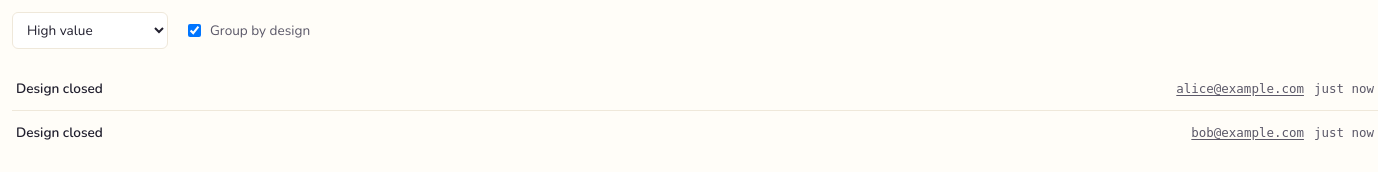
it: ActivityView › clicking a developer name filters the feed to that developer, and it's clearable
expect the text "Design closed" is shown 2 times: met, box [16, 79, 103, 98]; [16, 123, 103, 142]
What coordinates should you click on to do the following:
click the button "bob@example.com"
I would click on:
 (1248, 132)
Its box is [1191, 125, 1304, 140].
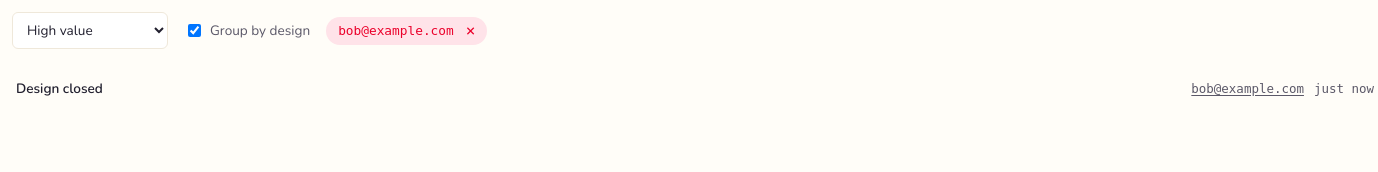
expect the text "Design closed" is shown once: met, box [16, 79, 103, 98]
expect the text "bob@example.com" is shown: met, box [338, 23, 454, 38]
What coordinates should you click on to do the following:
click the button named "clear developer filter"
I would click on:
 (470, 30)
Its box is [460, 20, 481, 40].
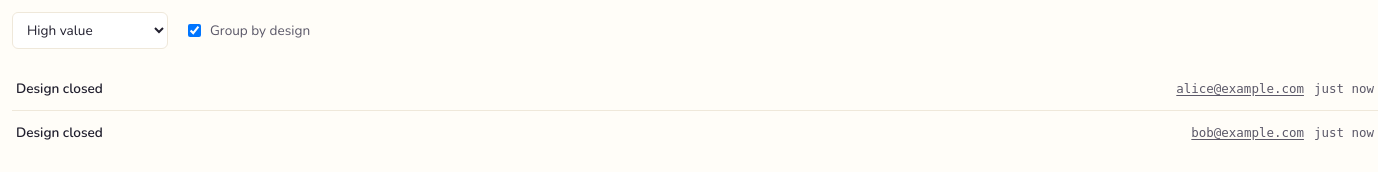
expect the text "Design closed" is shown 2 times: met, box [16, 79, 103, 98]; [16, 123, 103, 142]
